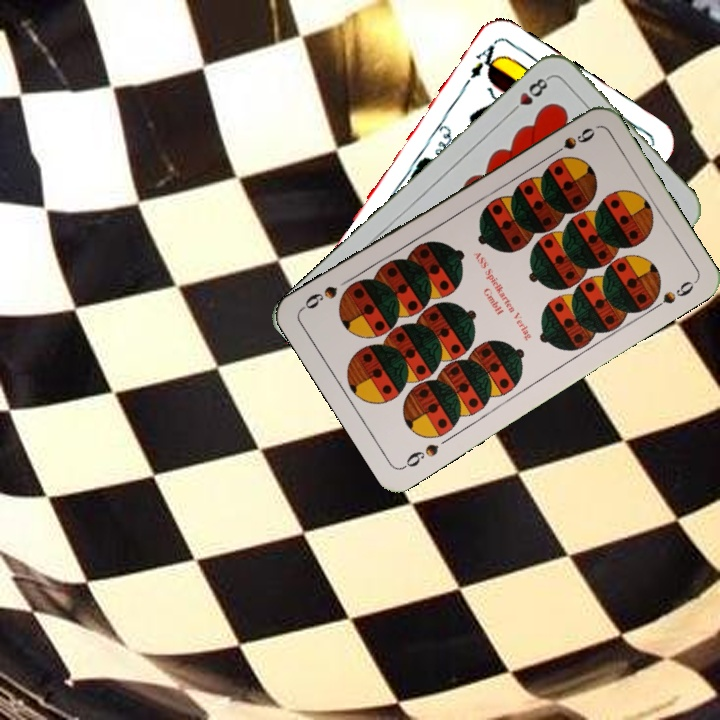EA: (460, 37, 503, 89)
H8: (505, 72, 553, 117)
S9: (545, 123, 598, 161), (399, 439, 441, 472)
